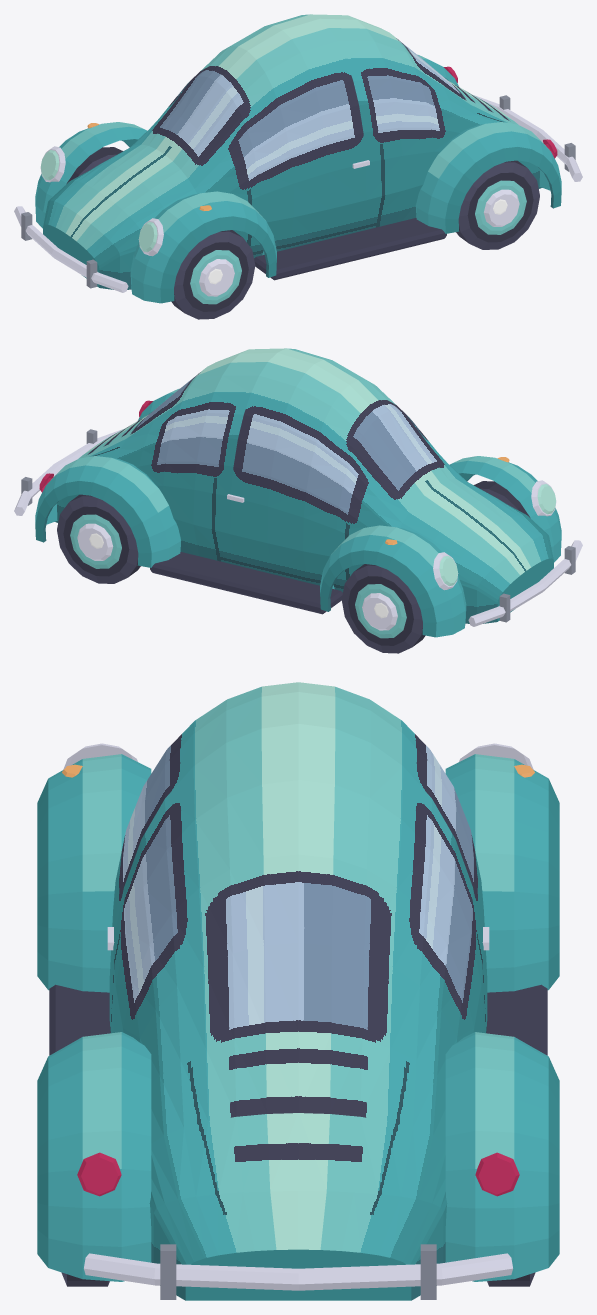
3 views of the same model, one above another, from view 1: azimuth 30°, elevation 25°; view 2: azimuth 150°, elevation 25°; view 3: azimuth 270°, elevation 25° (orthographic). The views are drawn at different scales.
Parts seen in each view (by area): view 1: Body_static, Wheel_FL_tire_hub, Wheel_RL_tire_hub, Wheel_FR_tire_hub; view 2: Body_static, Wheel_FR_tire_hub, Wheel_RR_tire_hub, Wheel_FL_tire_hub; view 3: Body_static.
Boxes of the visible parts, bbox=[...] form: Body_static: bbox=[14, 14, 582, 303]; Wheel_FL_tire_hub: bbox=[171, 230, 255, 319]; Wheel_RL_tire_hub: bbox=[456, 160, 539, 249]; Wheel_FR_tire_hub: bbox=[66, 147, 122, 183]; Body_static: bbox=[14, 348, 582, 637]; Wheel_FR_tire_hub: bbox=[341, 564, 425, 653]; Wheel_RR_tire_hub: bbox=[57, 494, 140, 583]; Wheel_FL_tire_hub: bbox=[474, 481, 530, 517]; Body_static: bbox=[37, 682, 559, 1300].
Size of the model in its own units: 80.87 by 34.09 by 37.04.
Materials: 1 (1 with a texture image).
